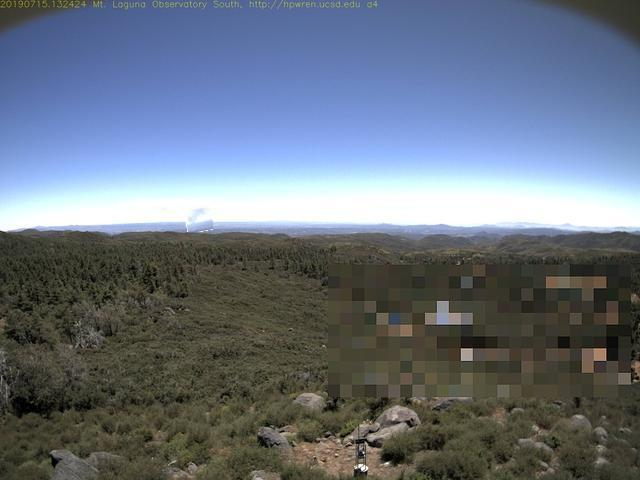smoke: (185, 204, 214, 233)
